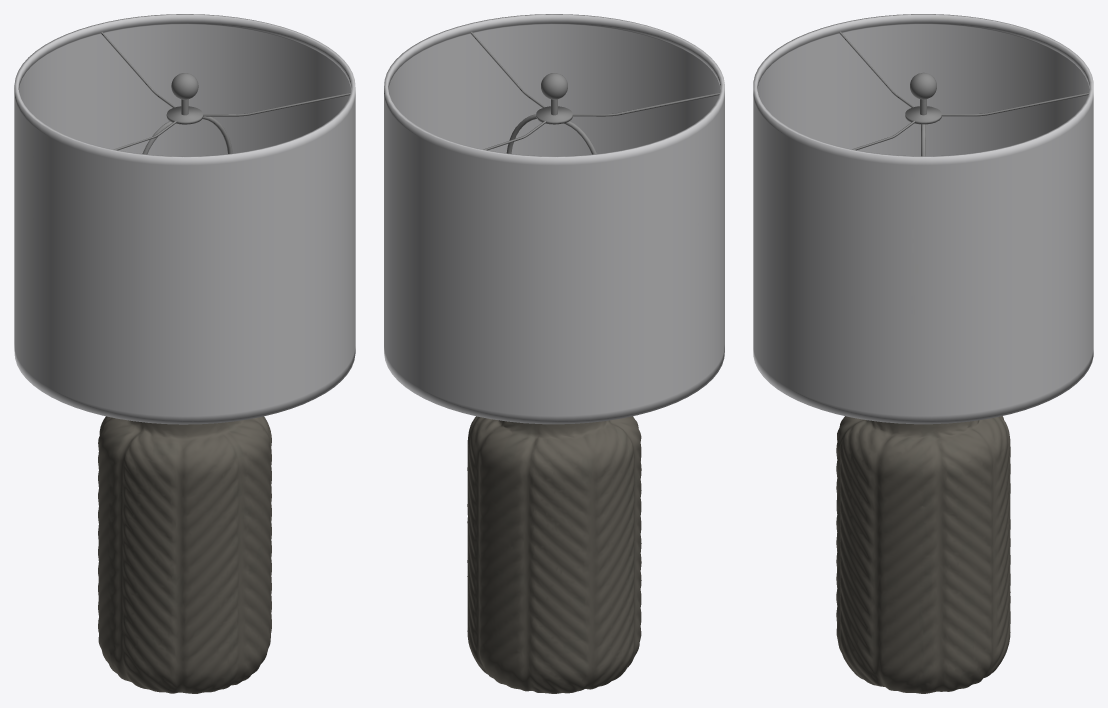
Rendered from abo-B07ML7NZRM.glb.
3 renders of one model, left to right at view 1: azimuth 30°, elevation 25°; view 2: azimuth 150°, elevation 25°; view 3: azimuth 270°, elevation 25°, orthographic.
Size of the model in its own units: 0.203 by 0.389 by 0.203.
1 material, 1 textured.
